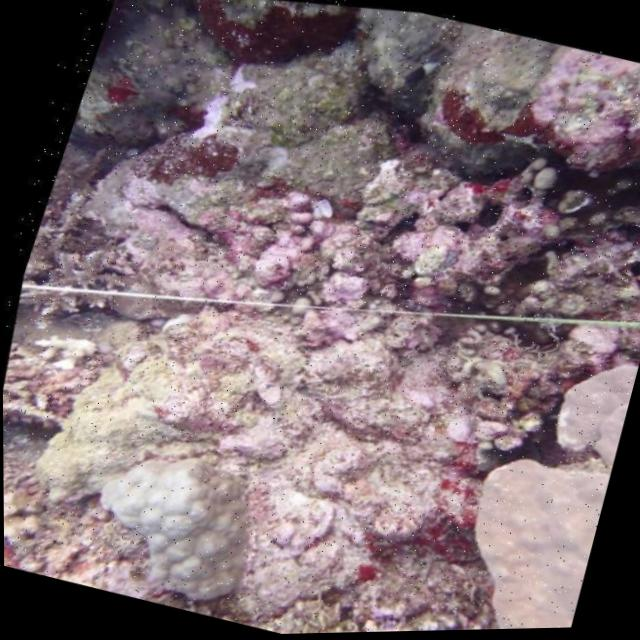Bleached Coral: (58, 382, 306, 632), (202, 151, 380, 338), (159, 30, 283, 163), (3, 295, 135, 408)
